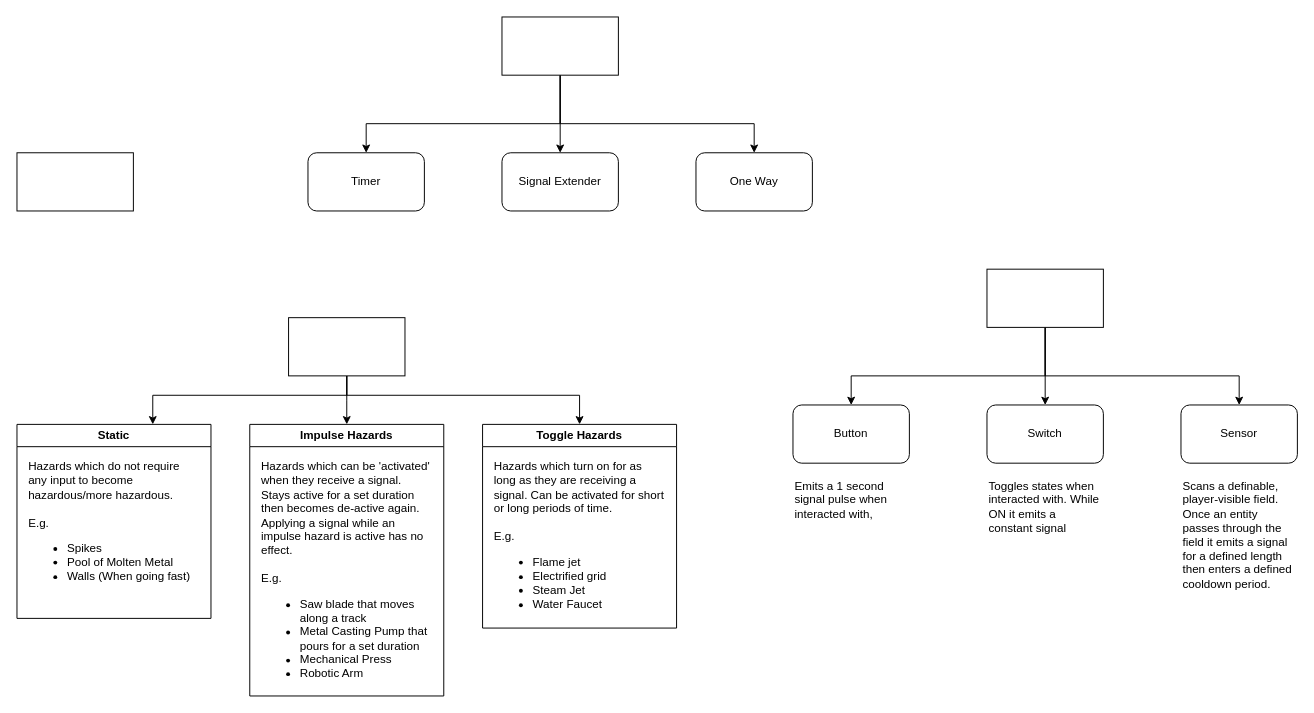
Image size: 1314x713. Some labels were removed from this diagram. Here are the shapes that lost their labels. From the top down, the centre of each, then its label:
the point at 559,45: Logic
the point at 74,181: Wire
the point at 1044,297: Input
the point at 346,346: Hazards
